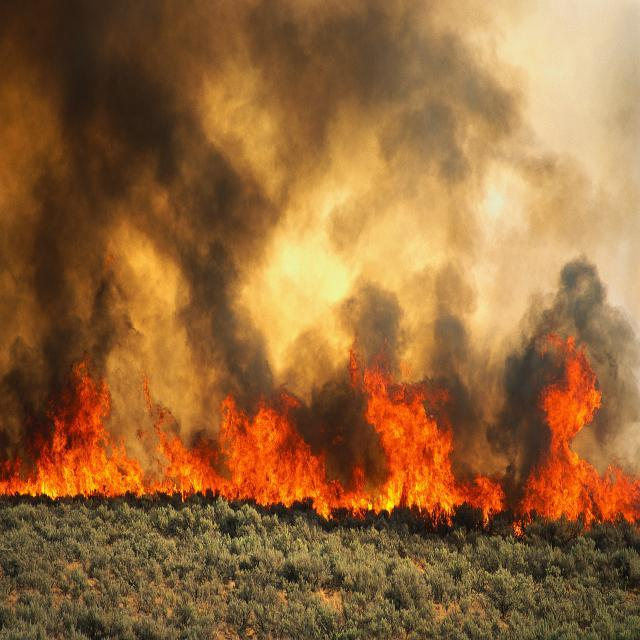Fire: (0, 392, 632, 540)
Smoke: (1, 4, 640, 430)
